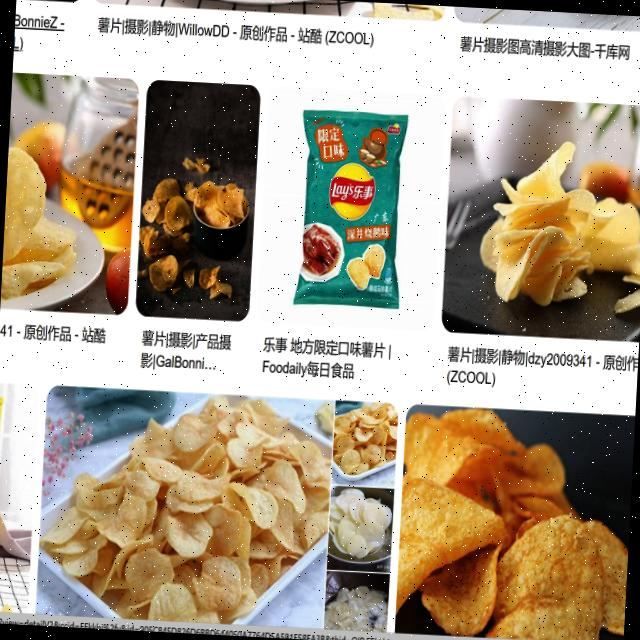lay-s_chip: (328, 160, 376, 222)
